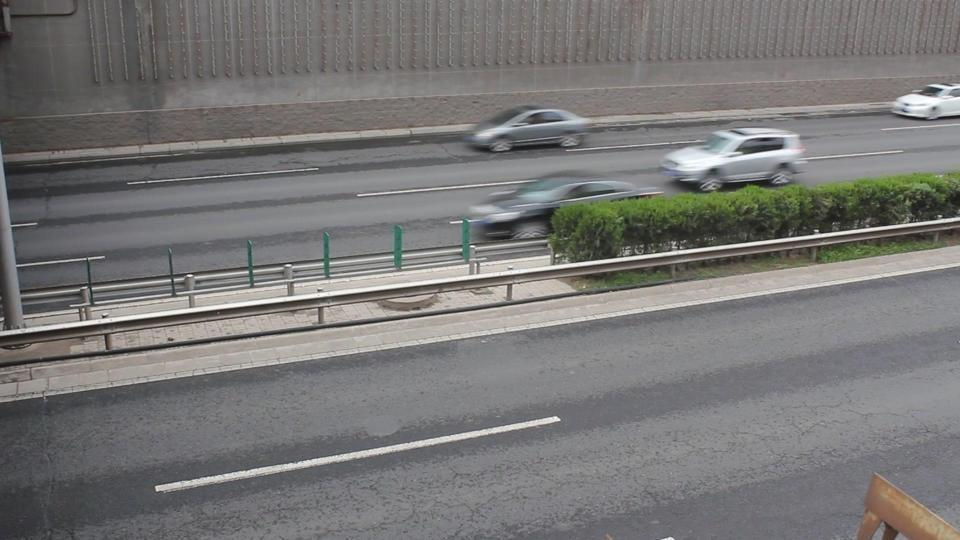car: (467, 176, 658, 241), (659, 128, 808, 191), (463, 107, 591, 154), (891, 83, 960, 120)
